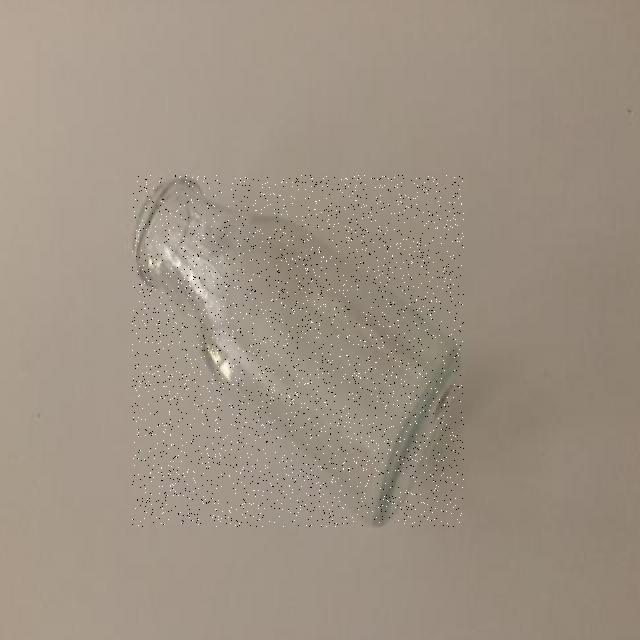glass: (132, 175, 464, 526)
